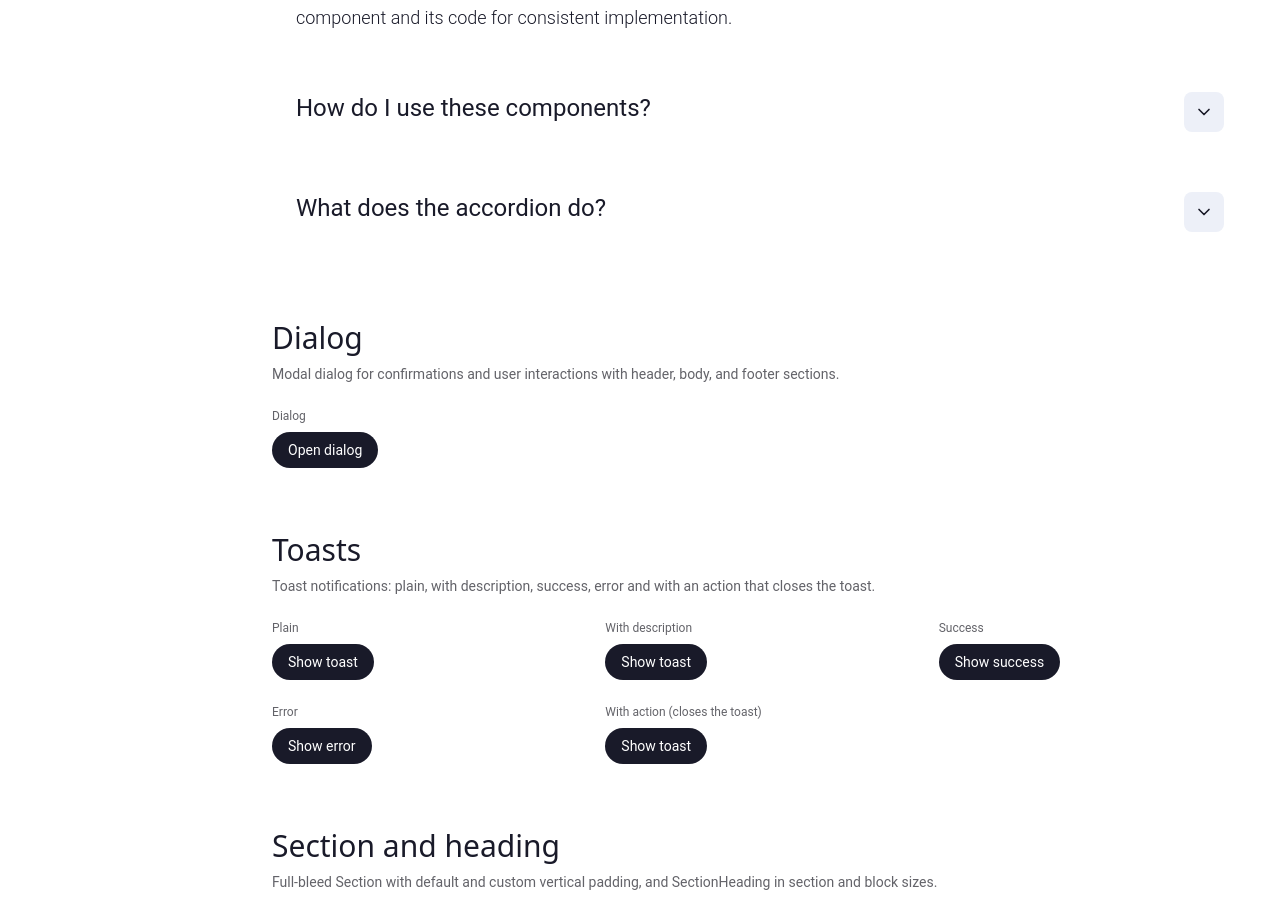
Test: UI kit island › Dialog group › opens with title, description and footer, and closes on Escape
The image size is (1280, 900).
(page scrolled)
Step 1. Click the button "Open dialog" → (325, 450), box [272, 432, 378, 468]
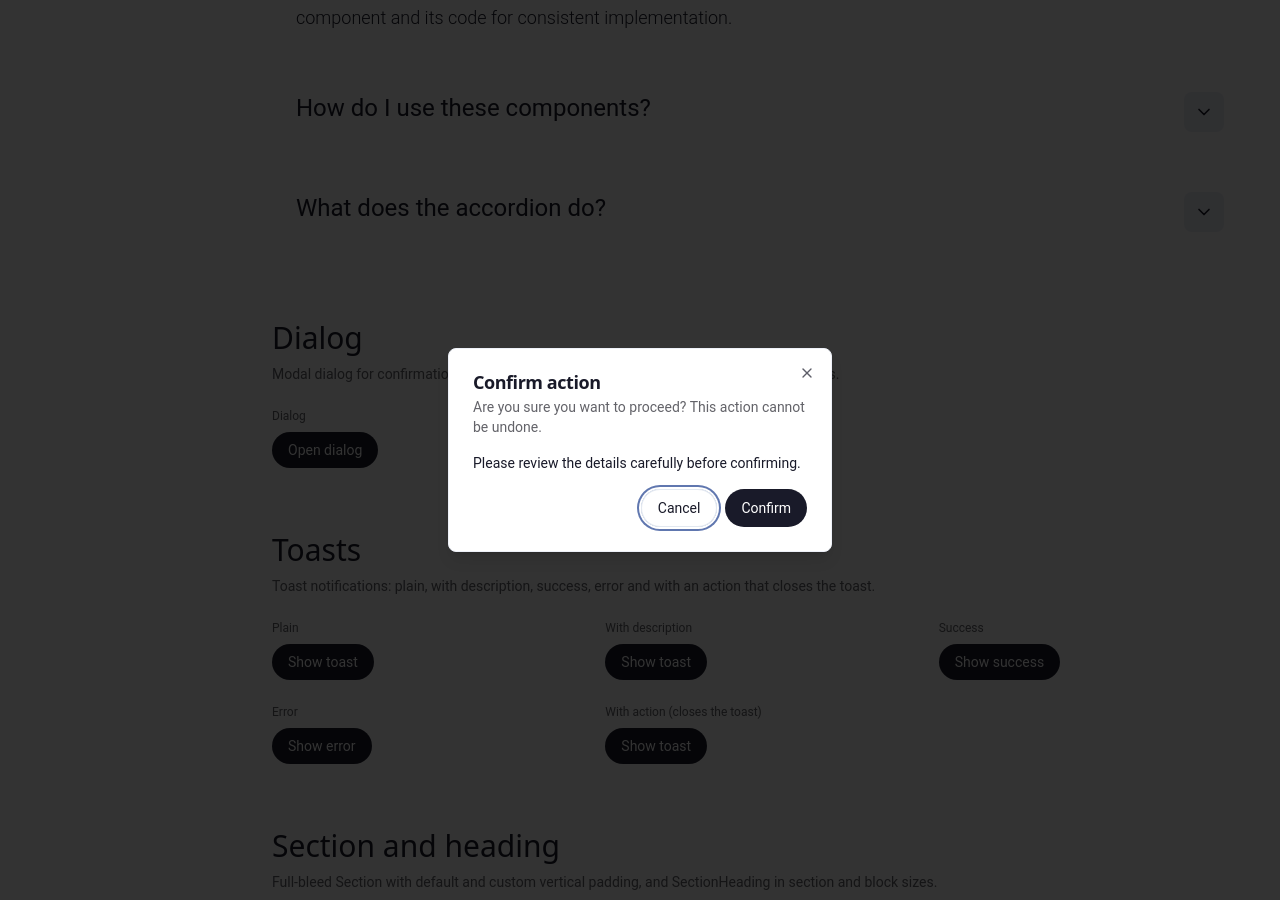
Expected: the heading "Confirm action" is shown, [473, 370, 600, 394]
Expected: the text "cannot be undone" is shown, [473, 399, 805, 435]
Expected: the button "Cancel" is shown, [641, 489, 717, 527]
Step 2. Press Escape in the dialog, box [448, 348, 832, 552]
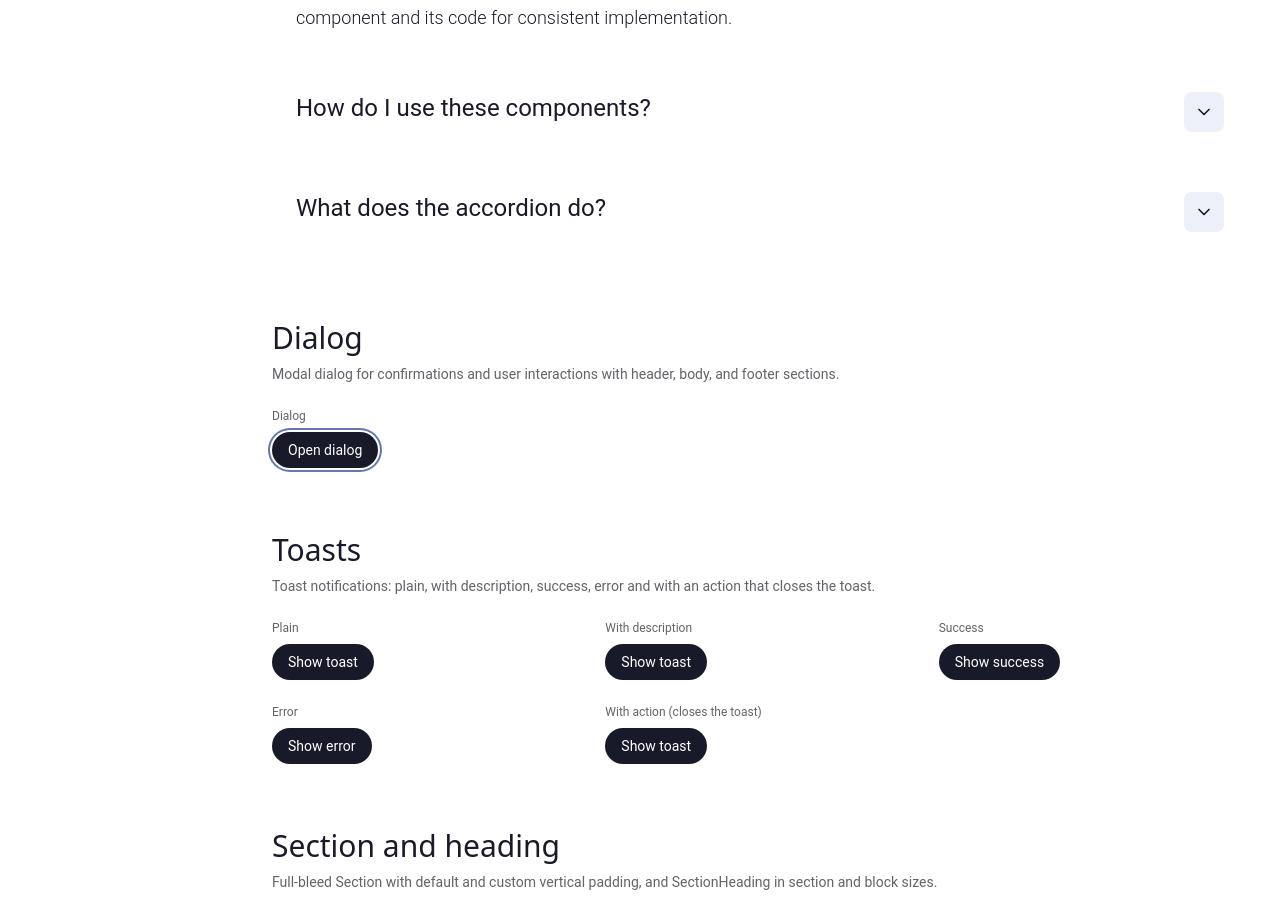
Expected: the dialog is gone
